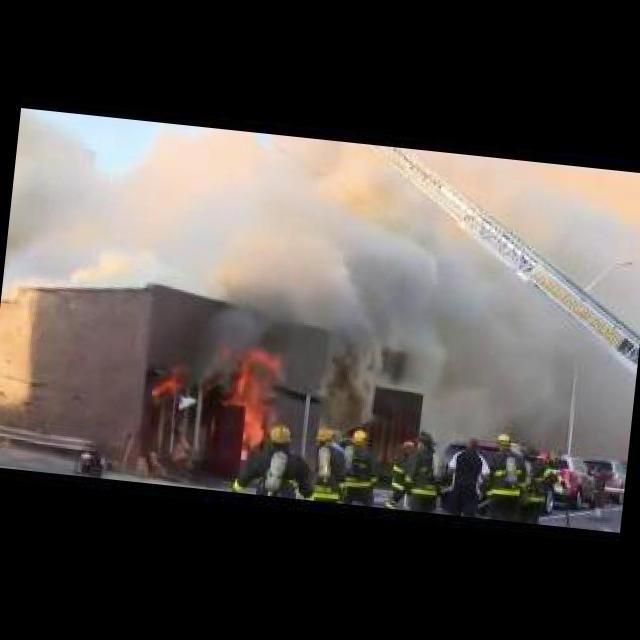fire: (167, 334, 307, 480)
